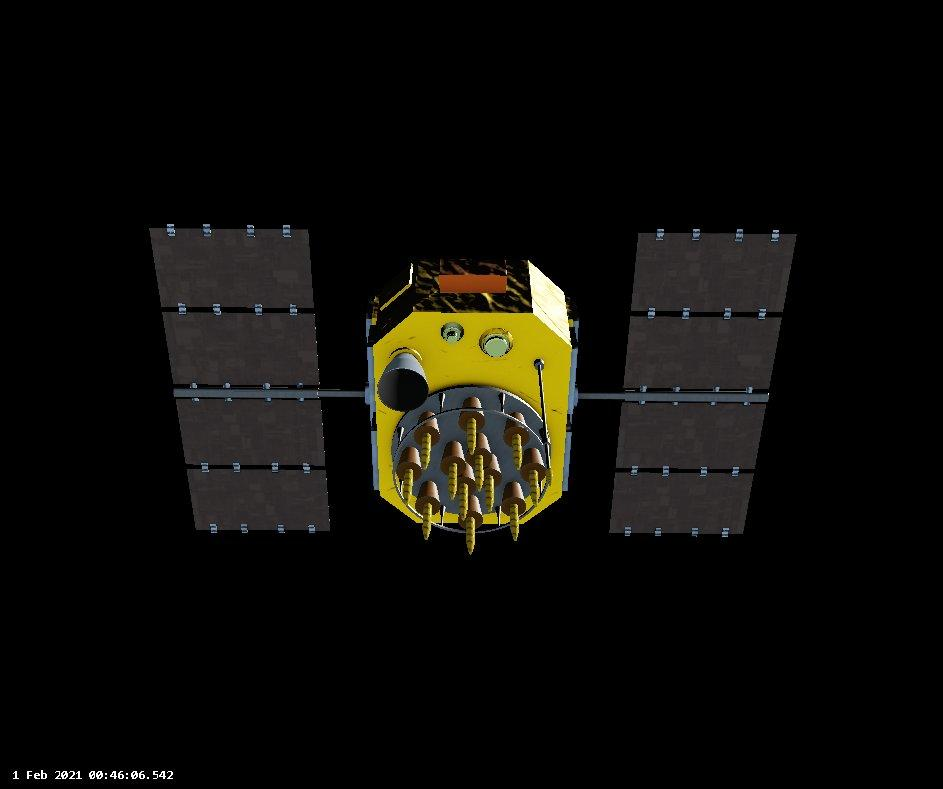antenna: (533, 353, 555, 473), (390, 440, 422, 506), (499, 476, 528, 545), (455, 395, 487, 457), (518, 445, 549, 509), (498, 409, 529, 471), (412, 479, 443, 541), (457, 494, 488, 556), (413, 411, 444, 472), (438, 439, 466, 501), (454, 461, 480, 522), (478, 450, 503, 511), (466, 435, 493, 490)
body: (364, 255, 583, 528)
solar: (603, 227, 799, 536), (146, 226, 336, 538)
thruster: (378, 349, 432, 413)
